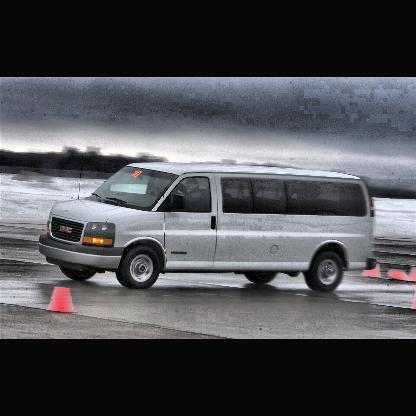GMC Savana Van 2012: (37, 160, 379, 295)
